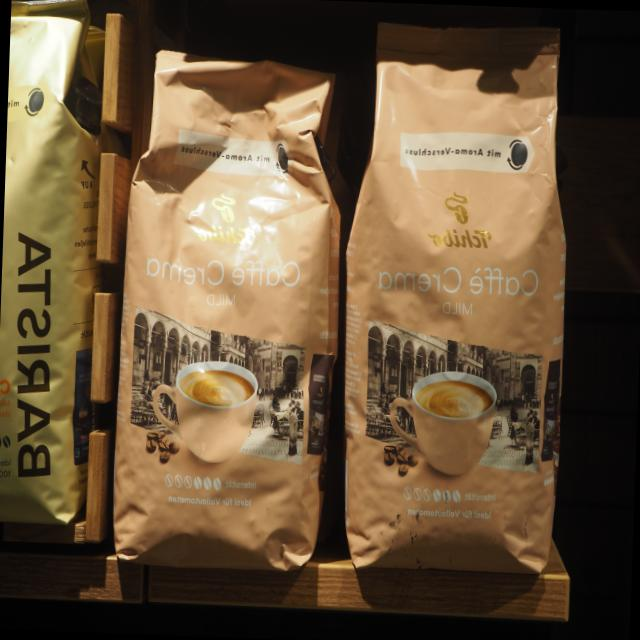CC Mild: (330, 13, 582, 584), (103, 44, 353, 580)
